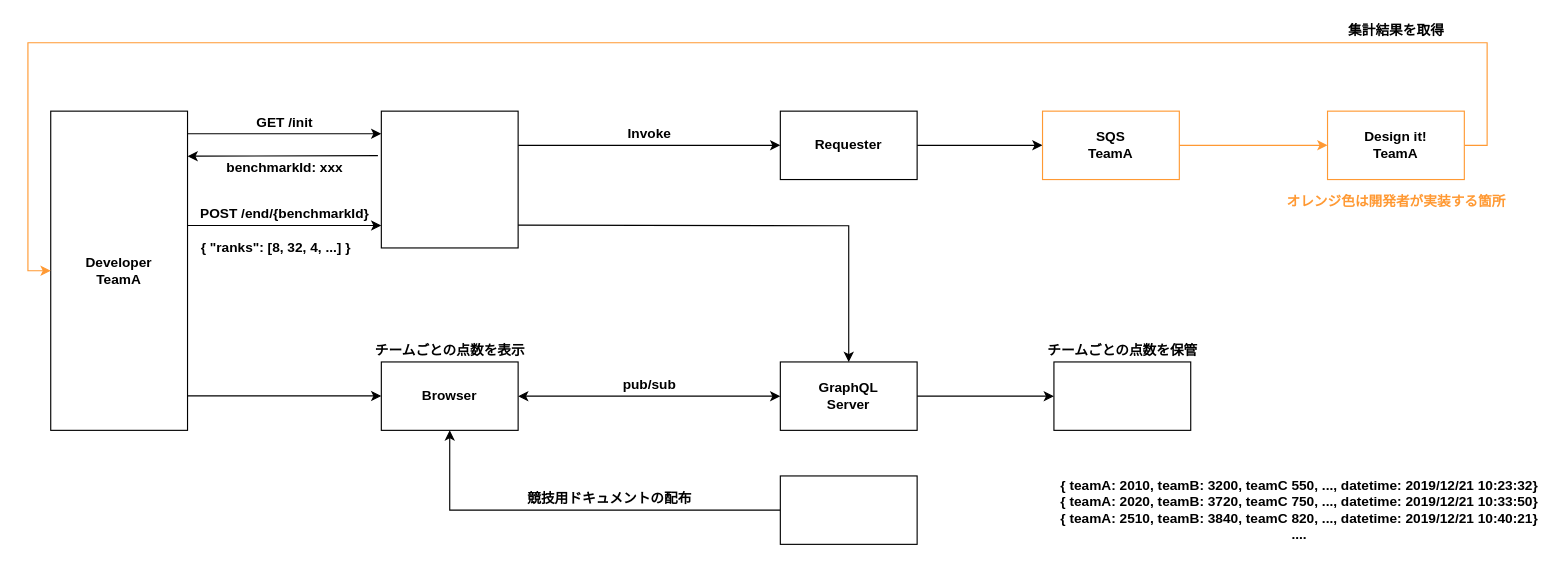
Some shapes in this 1564 by 564 pixel diagram are drawn without their labels. Each missing label, with the centre of its shape:
API: [449,179]
DynamoDB: [1122,395]
S3: [848,509]
